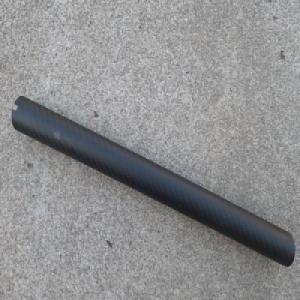LuggagePart: (11, 95, 295, 268)
